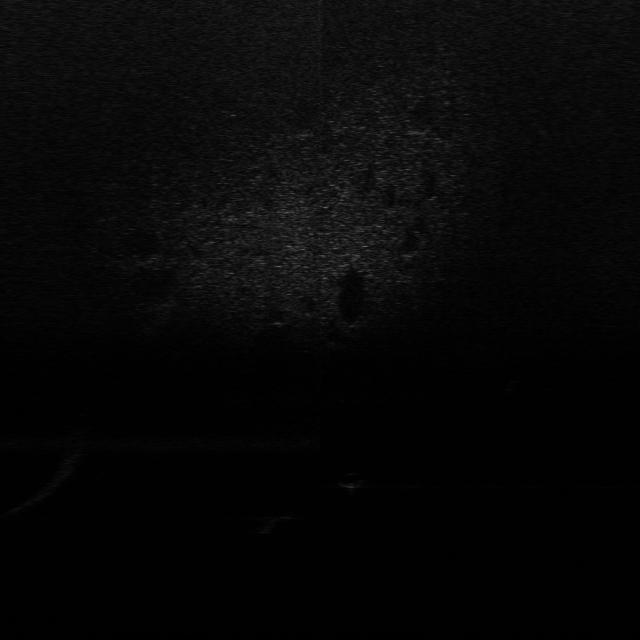ball: (336, 472, 366, 493)
square cage: (242, 512, 299, 533)
